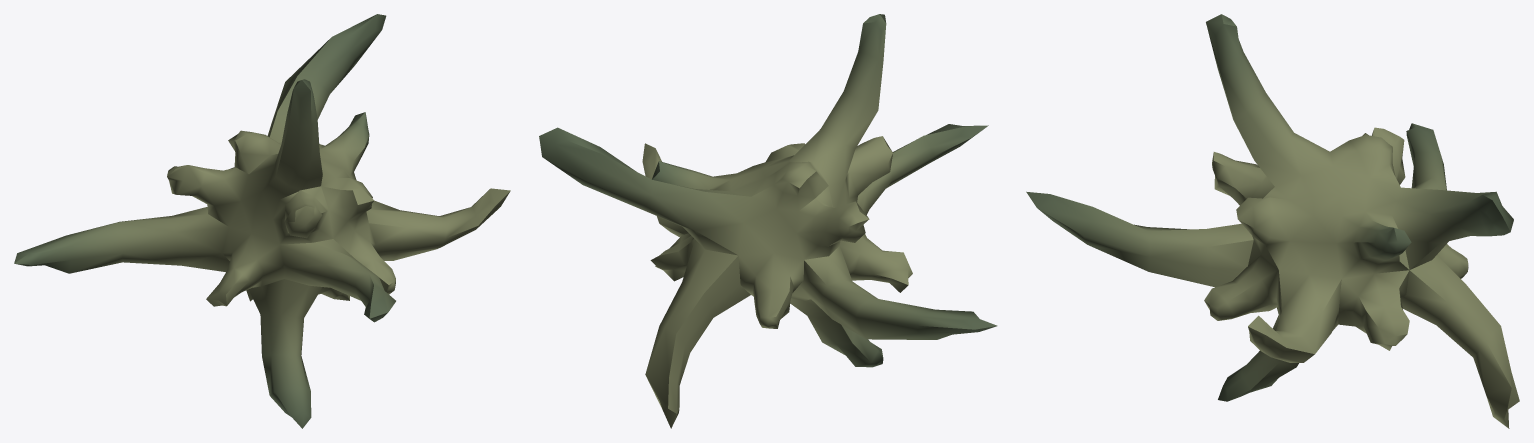
Rendered from microscopic-protists-amoeba_v1.fbx.
3 views of the same model, side by side, from view 1: azimuth 30°, elevation 25°; view 2: azimuth 150°, elevation 25°; view 3: azimuth 270°, elevation 25° (orthographic). The views are drawn at different scales.
Visible parts, largest first — view 1: Amoeba_v1; view 2: Amoeba_v1; view 3: Amoeba_v1.
Part boxes in pixels (x1,y1,x2,y2): Amoeba_v1: [14, 14, 510, 428]; Amoeba_v1: [539, 14, 997, 428]; Amoeba_v1: [1026, 14, 1519, 428].
Bounding box in the file's own units: 0.3 × 0.2354 × 0.2724.
